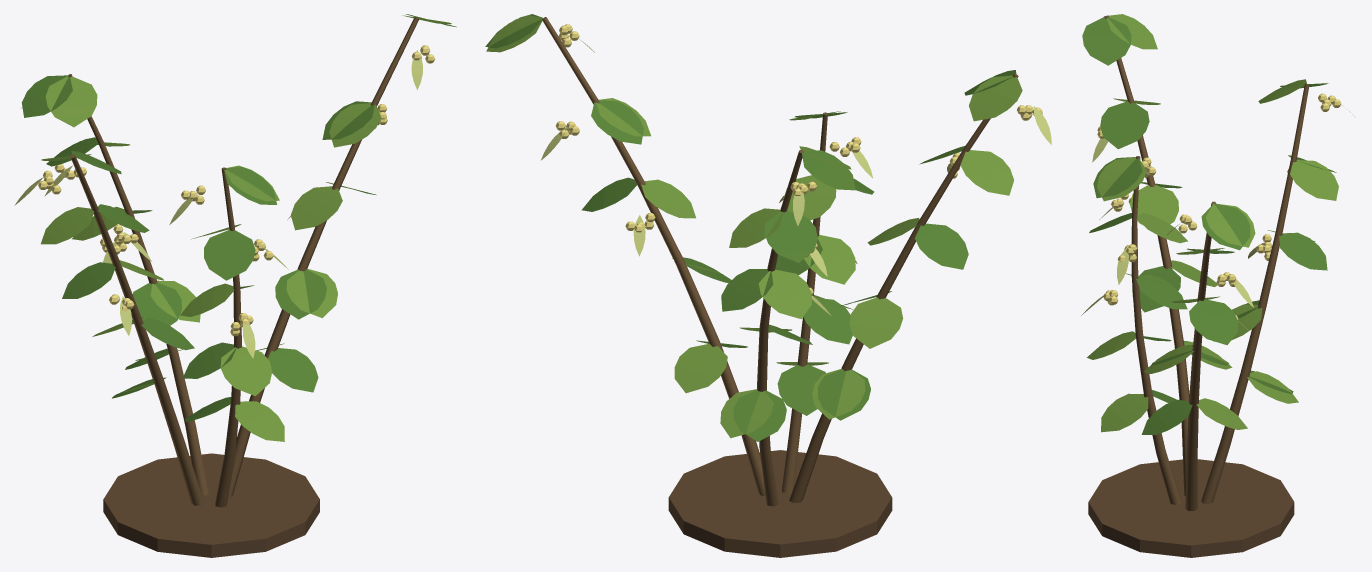
The model's file is lindenbluete.glb.
3 renders of one model, left to right at view 1: azimuth 30°, elevation 25°; view 2: azimuth 150°, elevation 25°; view 3: azimuth 270°, elevation 25°, orthographic. The views are drawn at different scales.
Visible parts, largest first — view 1: lindenbluete; view 2: lindenbluete; view 3: lindenbluete.
Boxes of the visible parts, x1,y1,x2,y2 form: lindenbluete: (14, 14, 456, 557); lindenbluete: (485, 14, 1051, 557); lindenbluete: (1081, 14, 1355, 557).
Size of the model in its own units: 0.7853 by 0.6654 by 0.4033.
